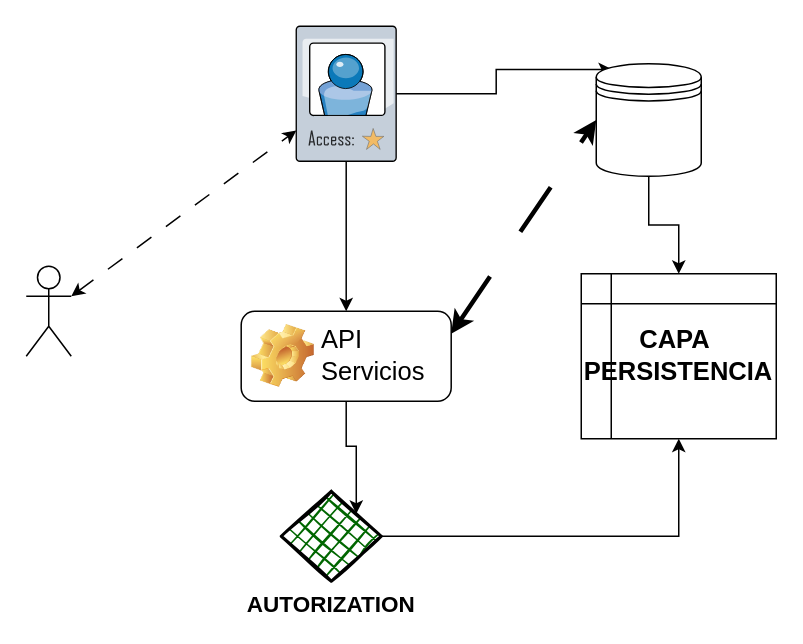
The diagram is 803 pixels wide and 644 high, and some of its shapes have lost their labels. The shapes that lost their labels are listed below. From the top down, each one's box as (x1, y1, x2, y2) in pixels, then its label:
(595, 62, 701, 176): CAPA DATOS
(25, 265, 71, 356): Actor
